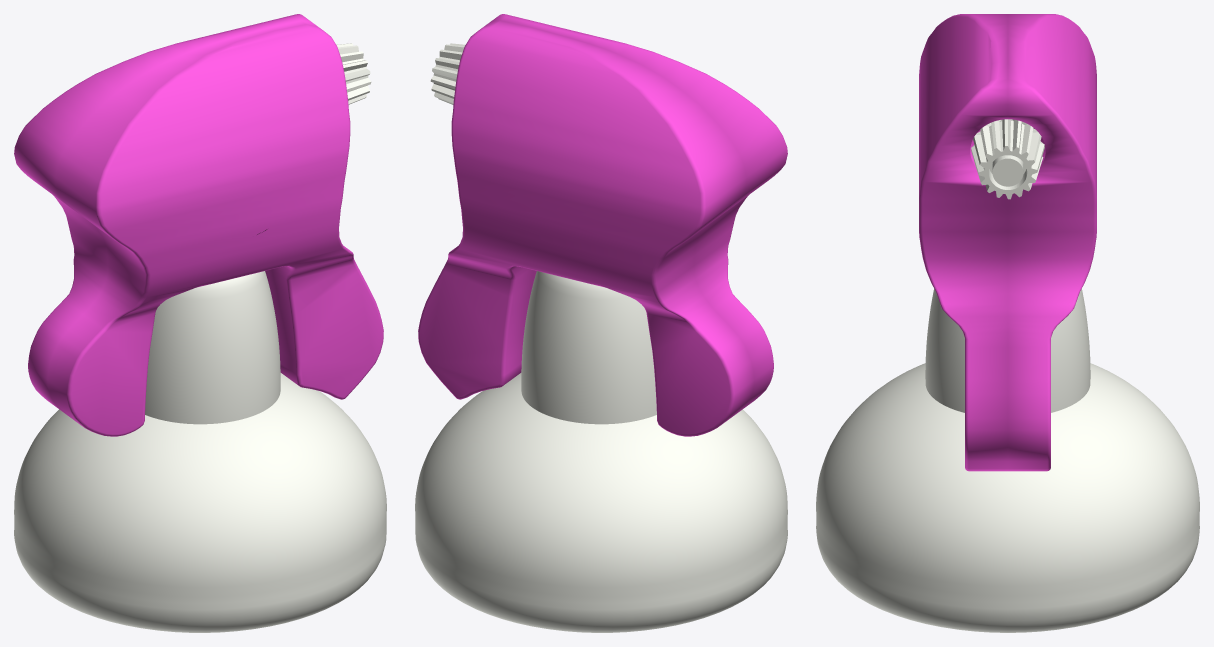
The picture shows the model from 3 angles, left to right: view 1: azimuth 30°, elevation 25°; view 2: azimuth 150°, elevation 25°; view 3: azimuth 270°, elevation 25°; orthographic projection. The views are drawn at different scales.
Parts seen in each view (by area): view 1: 平面, 球, 円; view 2: 平面, 球, 円; view 3: 球, 平面, 円.
Boxes of the visible parts, bbox=[...] form: 平面: bbox=[14, 14, 383, 436]; 球: bbox=[14, 271, 386, 632]; 円: bbox=[336, 43, 371, 104]; 平面: bbox=[418, 14, 787, 436]; 球: bbox=[415, 271, 787, 632]; 円: bbox=[430, 43, 465, 104]; 球: bbox=[816, 289, 1199, 632]; 平面: bbox=[919, 14, 1096, 471]; 円: bbox=[971, 119, 1044, 199].
Bounding box in the file's own units: 1.2 × 1.9 × 1.2.
Materials: 1 (1 with a texture image).
